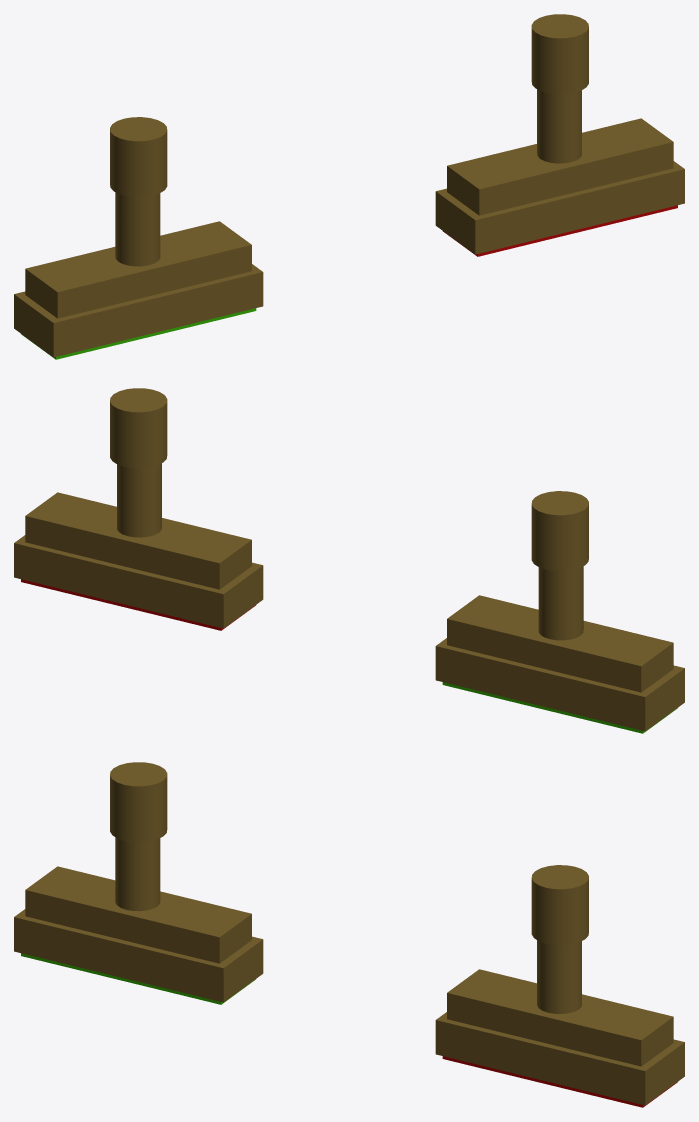
The model's file is Stamp 3D Models.fbx.
The picture shows the model from 3 angles, top to bottom: view 1: azimuth 30°, elevation 25°; view 2: azimuth 150°, elevation 25°; view 3: azimuth 330°, elevation 25°; orthographic projection.
Parts seen in each view (by area): view 1: polySurface4, polySurface9; view 2: polySurface4, polySurface9; view 3: polySurface4, polySurface9.
Part boxes in pixels (<box>): polySurface4: <box>14,117,263,359</box>; polySurface9: <box>435,14,684,256</box>; polySurface4: <box>435,491,684,733</box>; polySurface9: <box>14,388,263,630</box>; polySurface4: <box>14,762,263,1004</box>; polySurface9: <box>435,865,684,1107</box>.
Size of the model in its own units: 17.75 by 5.19 by 1.93.
